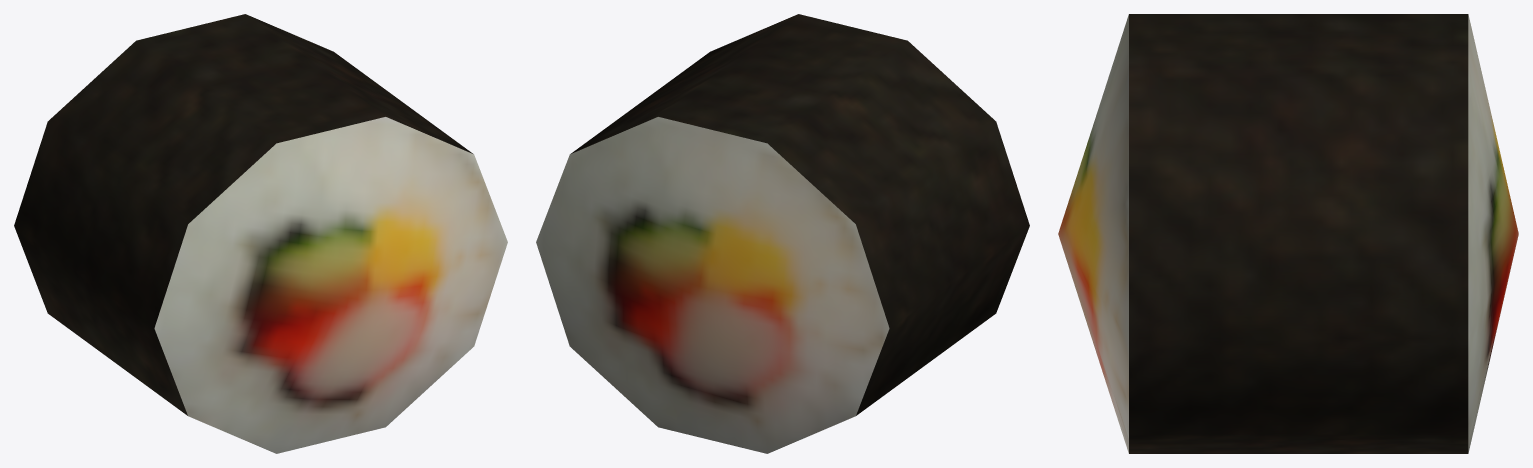
File: Maki.fbx
3 views of the same model, side by side, from view 1: azimuth 30°, elevation 25°; view 2: azimuth 150°, elevation 25°; view 3: azimuth 270°, elevation 25° (orthographic). The views are drawn at different scales.
Parts seen in each view (by area): view 1: Maki; view 2: Maki; view 3: Maki.
Part boxes in pixels (box(x1,y1,x2,y2)): Maki: box(14, 14, 507, 453); Maki: box(536, 14, 1029, 453); Maki: box(1058, 14, 1518, 453).
Bounding box in the file's own units: 132 × 111 × 124.
